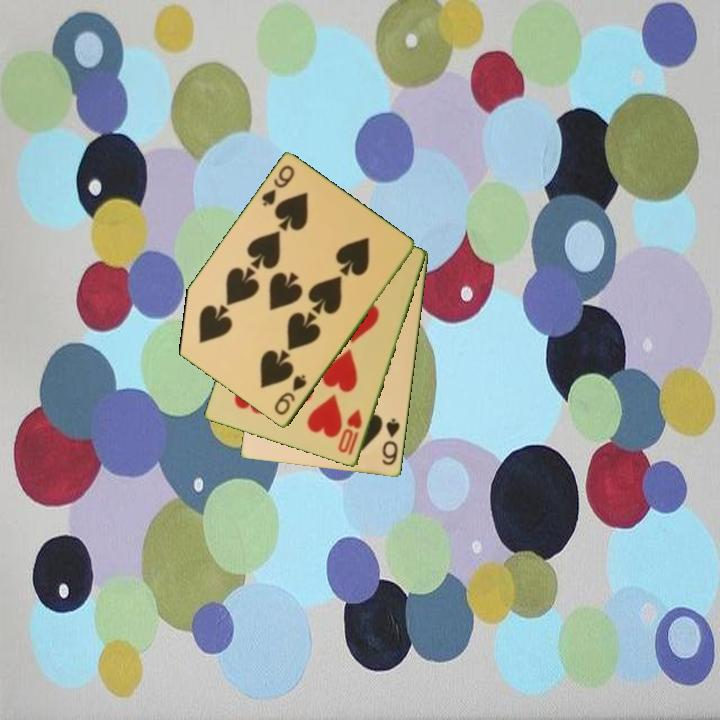10h: (335, 406, 365, 459)
6s: (379, 415, 403, 468)
9s: (258, 162, 298, 210), (271, 371, 310, 419)
